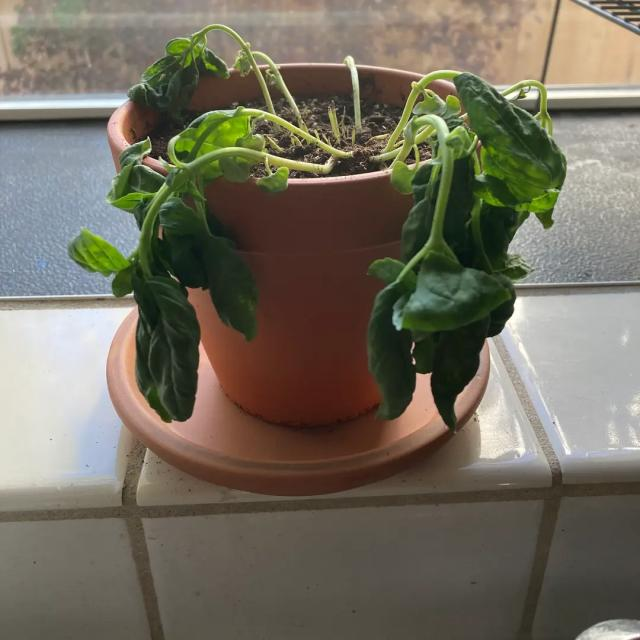unhealthy: (86, 35, 317, 403), (356, 65, 569, 427)
